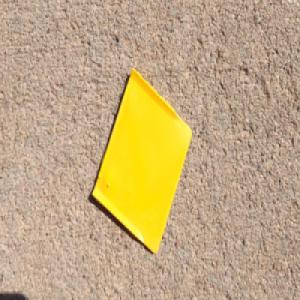PlasticPart: (89, 64, 192, 255)
